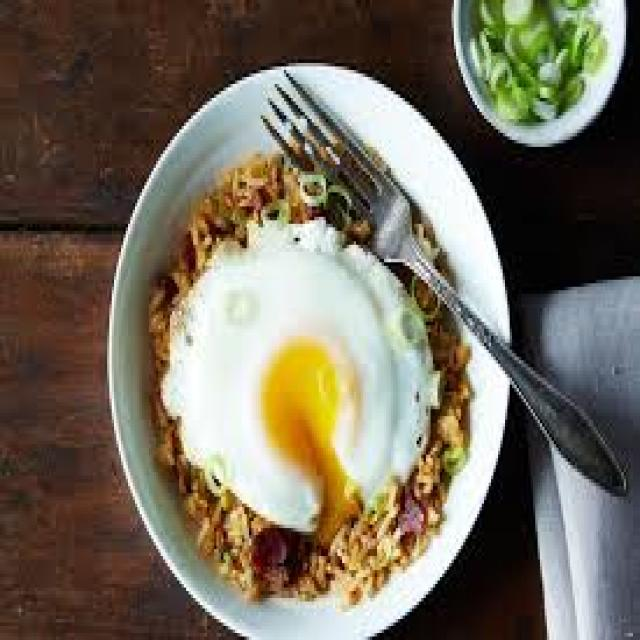Egg: (163, 220, 435, 540)
